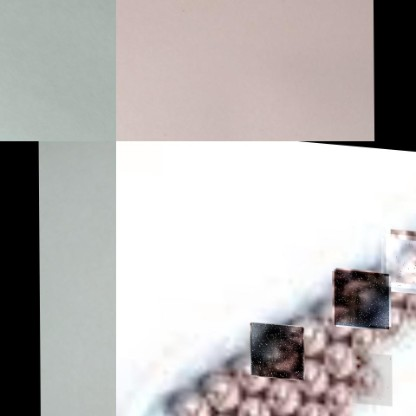ironball: (333, 263, 388, 322), (249, 318, 302, 374), (169, 369, 217, 415), (351, 345, 391, 399), (321, 337, 358, 386), (290, 313, 331, 355), (385, 227, 415, 283), (201, 369, 240, 411), (233, 385, 276, 415), (262, 378, 297, 414), (296, 359, 329, 397), (322, 386, 363, 414)
